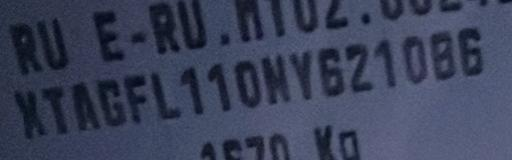letter: (12, 87, 50, 140), (258, 51, 292, 105), (148, 69, 184, 120), (69, 79, 103, 131), (38, 83, 70, 136), (94, 75, 126, 127), (342, 41, 374, 93), (316, 44, 346, 98), (175, 62, 205, 116), (456, 25, 486, 78), (427, 28, 457, 81), (400, 33, 430, 86), (232, 59, 262, 109), (370, 36, 398, 89), (286, 48, 314, 100), (204, 59, 232, 111), (122, 72, 148, 124)
